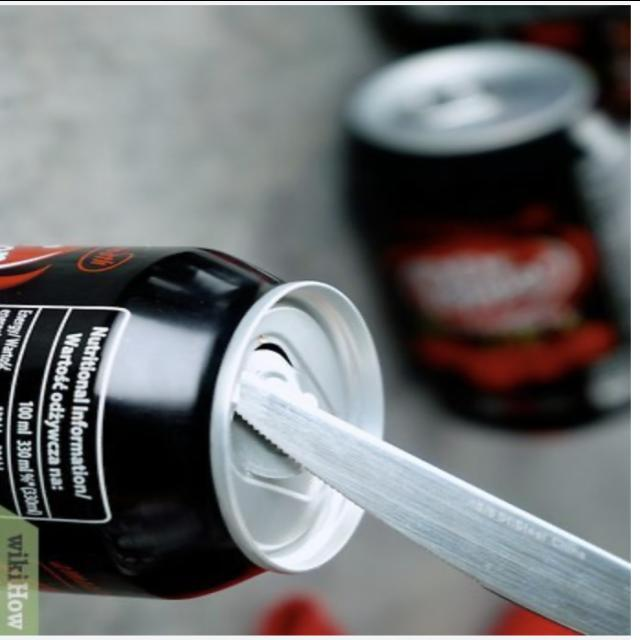can: (0, 224, 383, 610)
